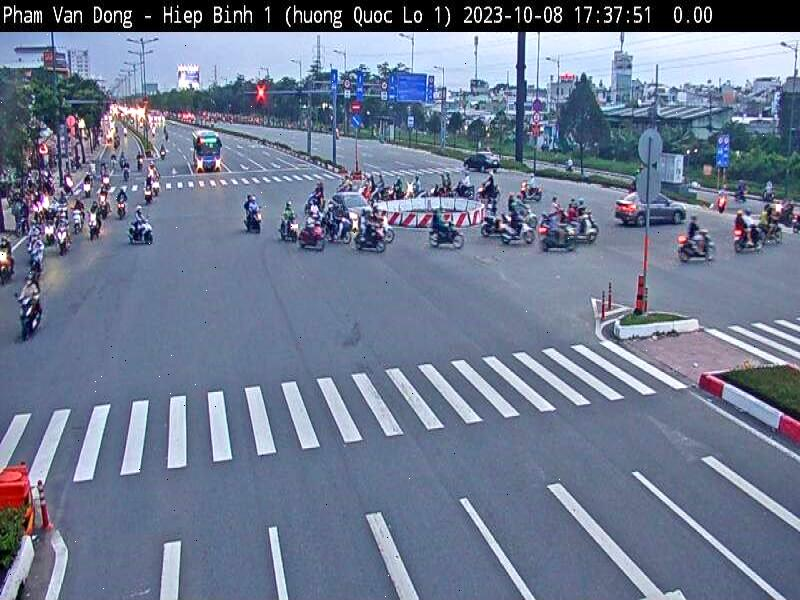bus: (189, 131, 224, 176)
car: (615, 187, 689, 230), (326, 183, 371, 230), (459, 149, 502, 174)
motorcycle: (499, 212, 538, 252), (676, 233, 716, 267), (423, 224, 467, 254), (540, 222, 578, 256), (13, 296, 43, 337), (731, 226, 767, 256), (358, 228, 392, 258), (298, 224, 329, 252), (566, 217, 595, 246), (125, 222, 157, 246), (241, 214, 266, 234)
